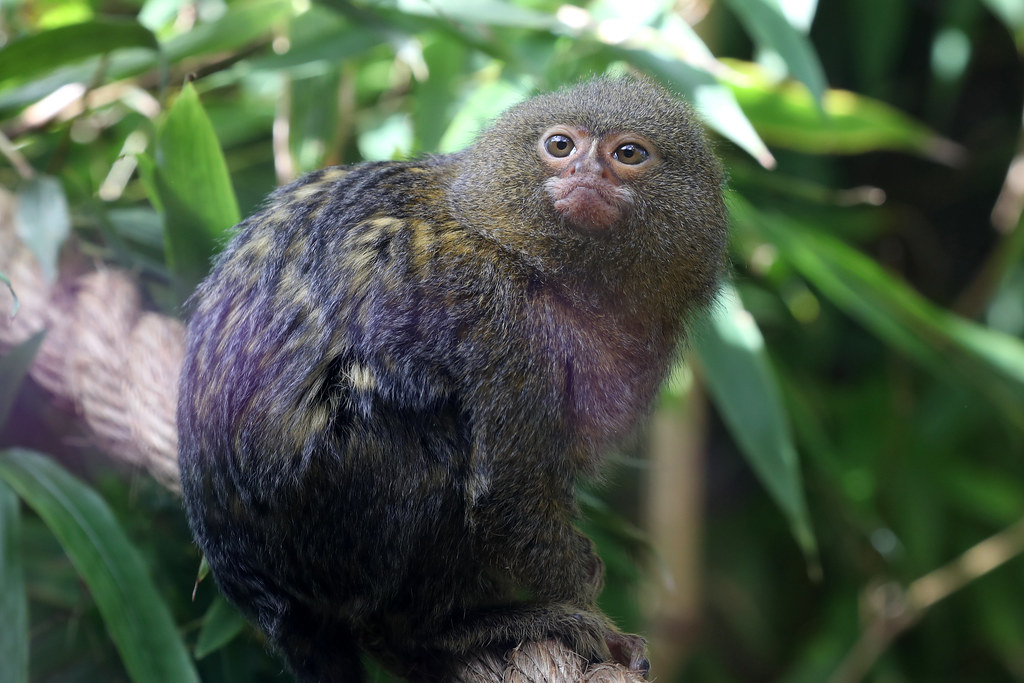PygmyMarmoset: (169, 95, 738, 635)
